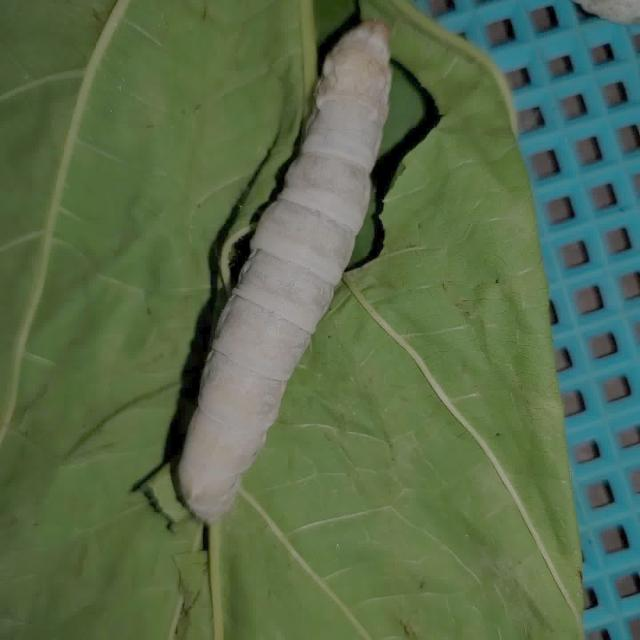Grasserie: (163, 11, 445, 555)
